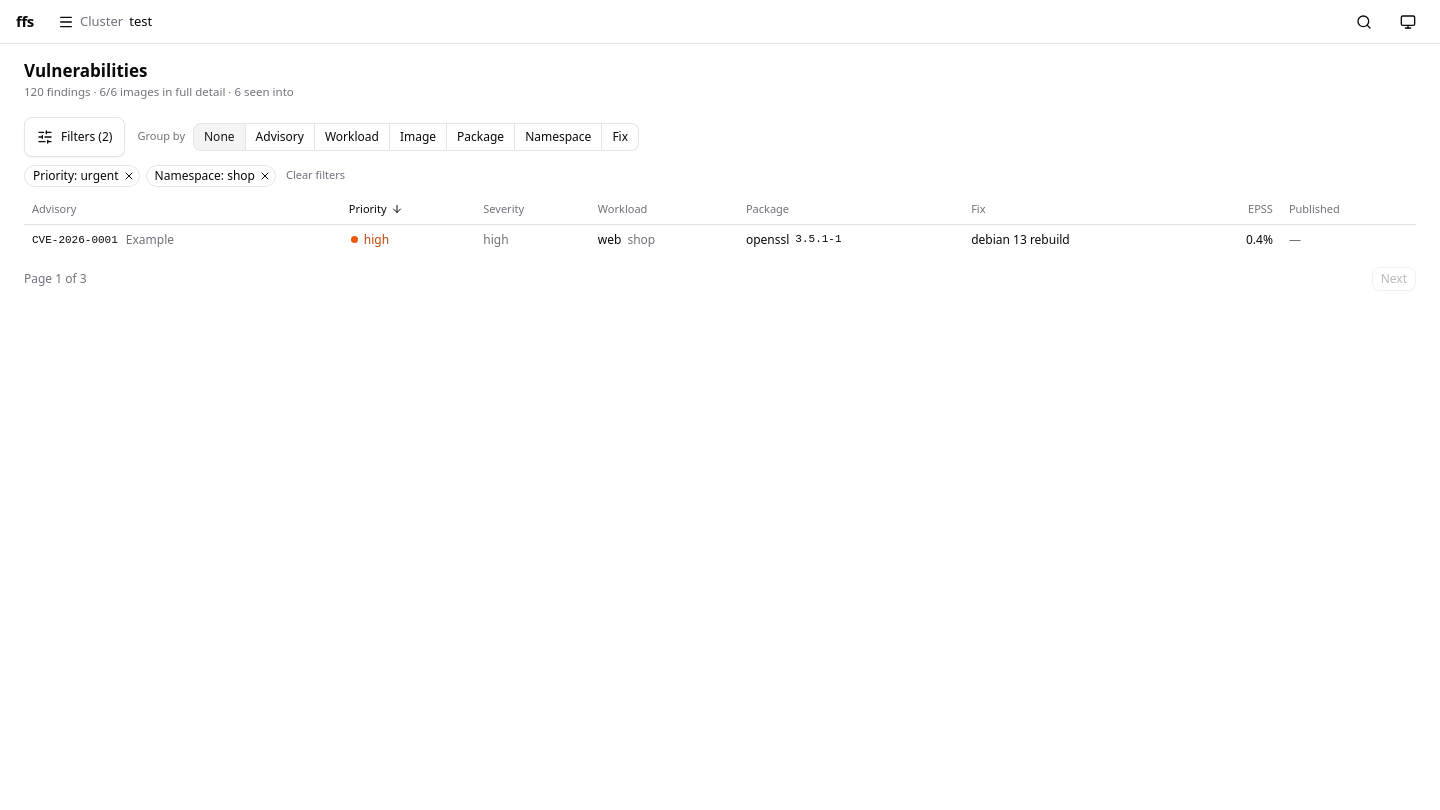
Test: below 1024 px the explorer puts results first and its facets in a Filters (n) sheet
Expected: the text "CVE-2026-0001" is shown, [32,234,118,246]
Expected: the button named "Remove Priority: urgent" is shown, [121,168,137,184]
Click the button "Filters (2)" at (75, 136), box [24,116,125,156]
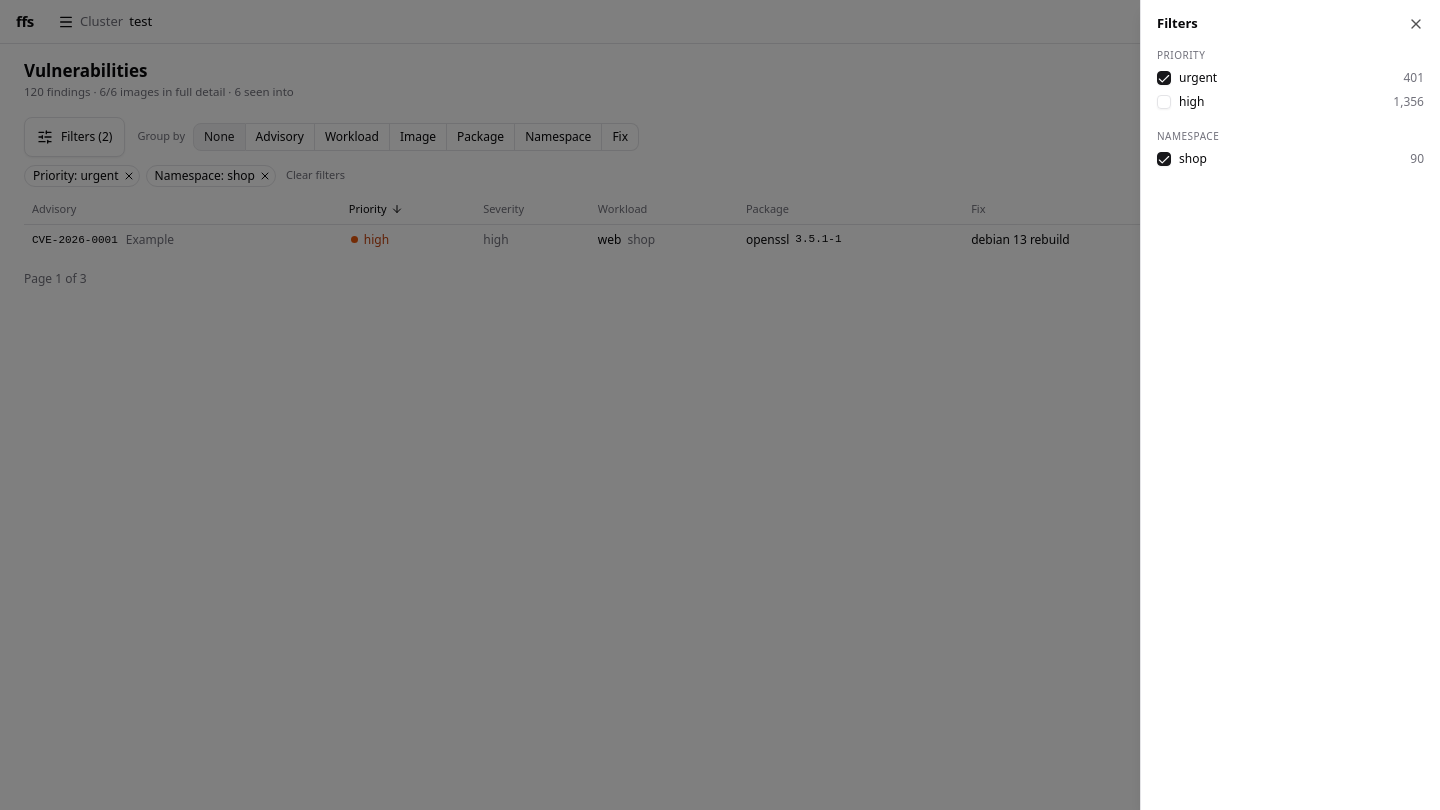
Expected: the checkbox in the row of "401" is checked, [1157,71,1171,85]
Expected: the checkbox in the row of "90" is checked, [1157,152,1171,166]
Click the checkbox in the row of "1,356" at (1164, 102), box [1157,95,1171,109]
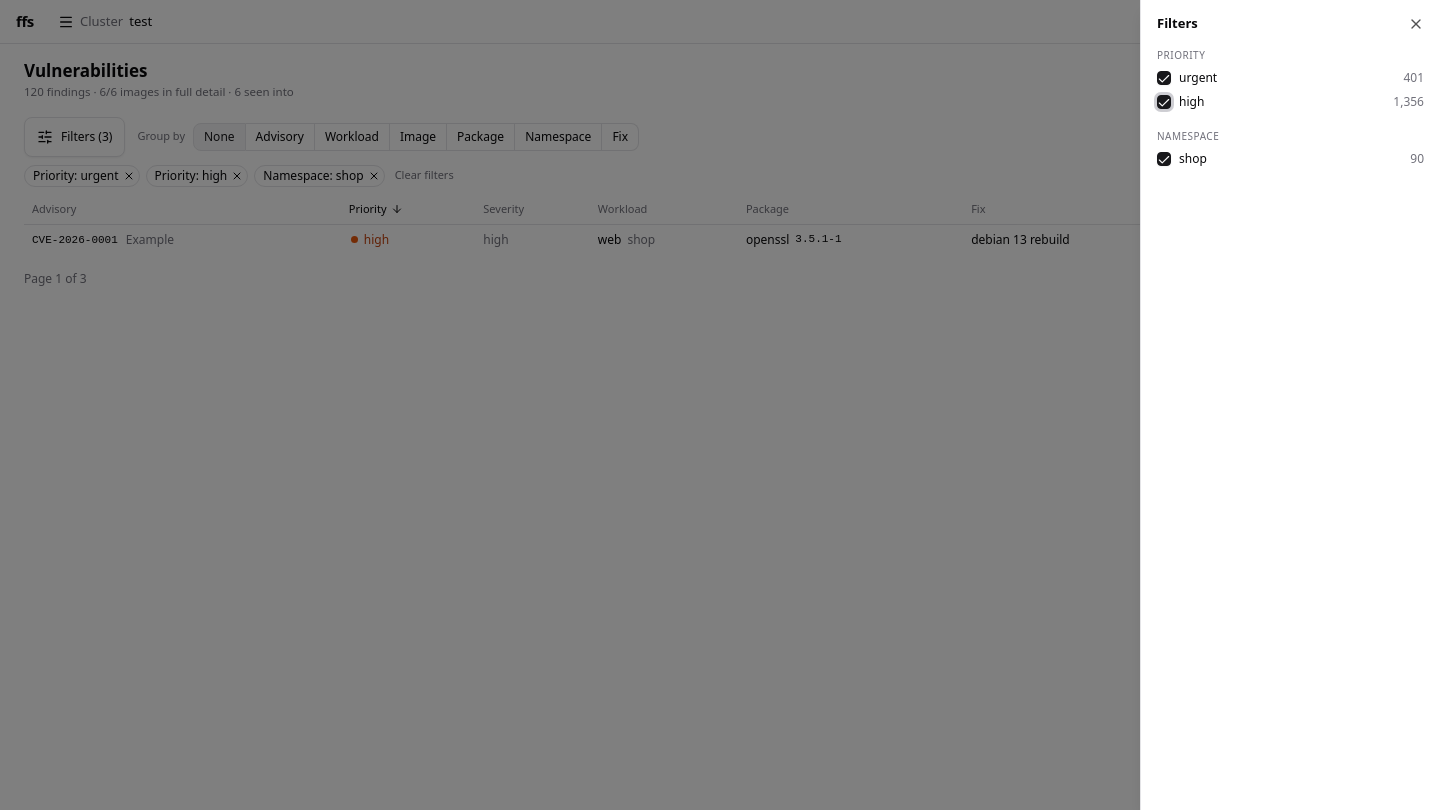
Expected: the dialog "Filters" is shown, [1140,0,1439,809]
Press Escape
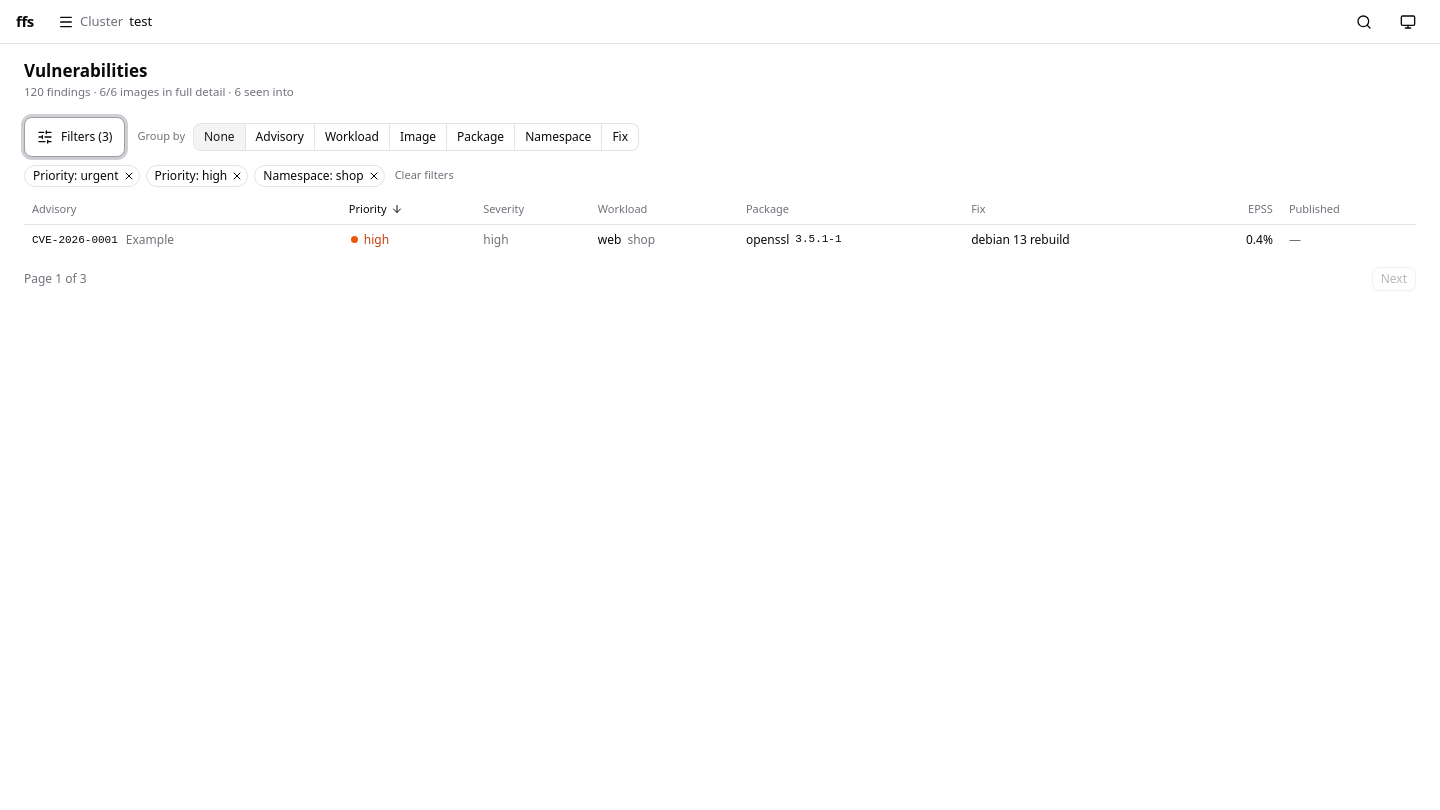
Expected: the button "Filters (3)" is shown, [24,116,125,156]
Expected: the dialog is gone
